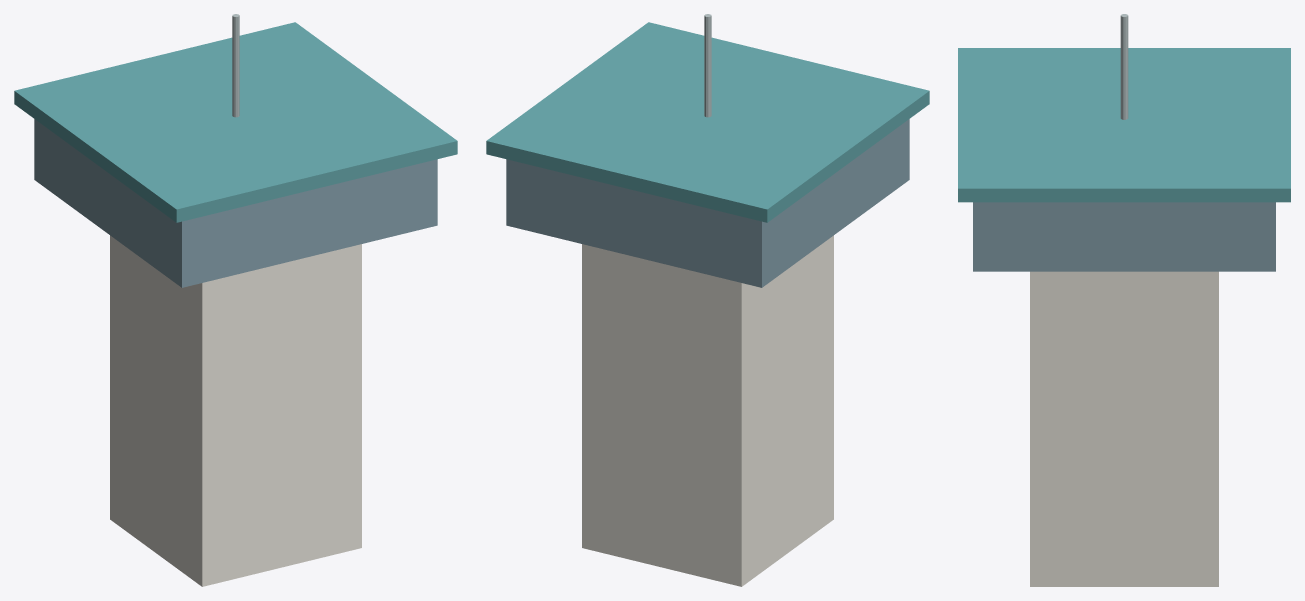
Rendered from control_tower.glb.
The picture shows the model from 3 angles, left to right: view 1: azimuth 30°, elevation 25°; view 2: azimuth 150°, elevation 25°; view 3: azimuth 270°, elevation 25°; orthographic projection. The views are drawn at different scales.
Parts seen in each view (by area): view 1: control_tower__tower_base, control_tower__deck_roof, control_tower__observation_deck, control_tower__aerial; view 2: control_tower__tower_base, control_tower__deck_roof, control_tower__observation_deck, control_tower__aerial; view 3: control_tower__tower_base, control_tower__deck_roof, control_tower__observation_deck, control_tower__aerial.
Boxes of the visible parts, x1=… form: control_tower__tower_base: x1=110, y1=235, x2=361, y2=586; control_tower__deck_roof: x1=14, y1=22, x2=457, y2=222; control_tower__observation_deck: x1=34, y1=119, x2=437, y2=287; control_tower__aerial: x1=232, y1=14, x2=239, y2=117; control_tower__tower_base: x1=582, y1=235, x2=833, y2=586; control_tower__deck_roof: x1=486, y1=22, x2=929, y2=222; control_tower__observation_deck: x1=506, y1=119, x2=909, y2=287; control_tower__aerial: x1=704, y1=14, x2=711, y2=117; control_tower__tower_base: x1=1030, y1=271, x2=1218, y2=586; control_tower__deck_roof: x1=958, y1=48, x2=1290, y2=202; control_tower__observation_deck: x1=973, y1=202, x2=1275, y2=271; control_tower__aerial: x1=1120, y1=14, x2=1128, y2=119.
Bounding box in the file's own units: 8.8 × 15.5 × 8.8.
